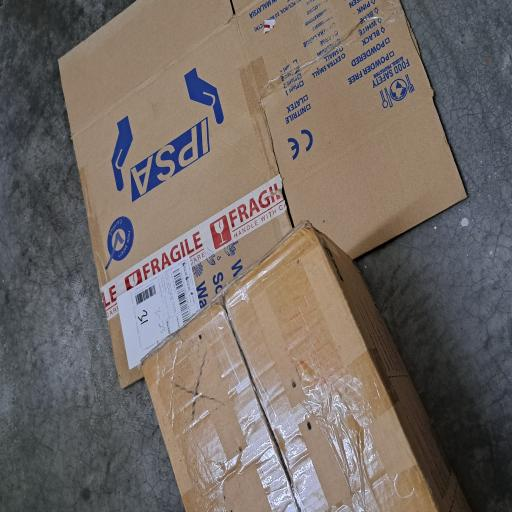cardboard: (90, 74, 384, 512), (0, 184, 217, 512)
